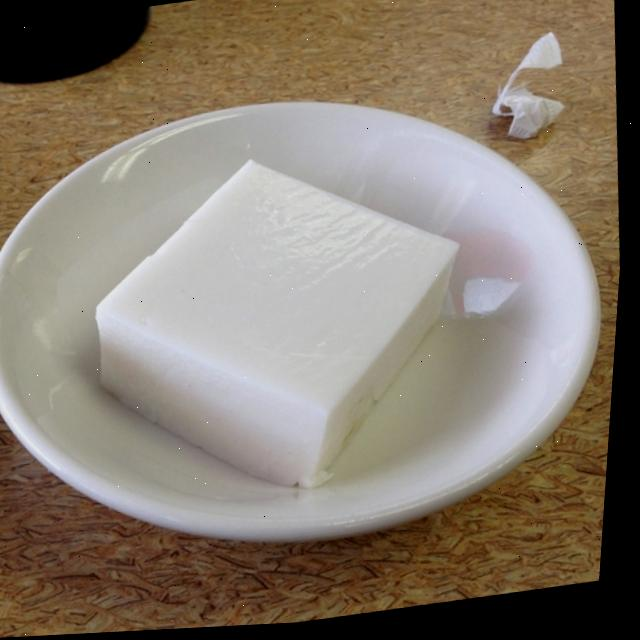蛋糕甜品: (0, 42, 607, 611)
